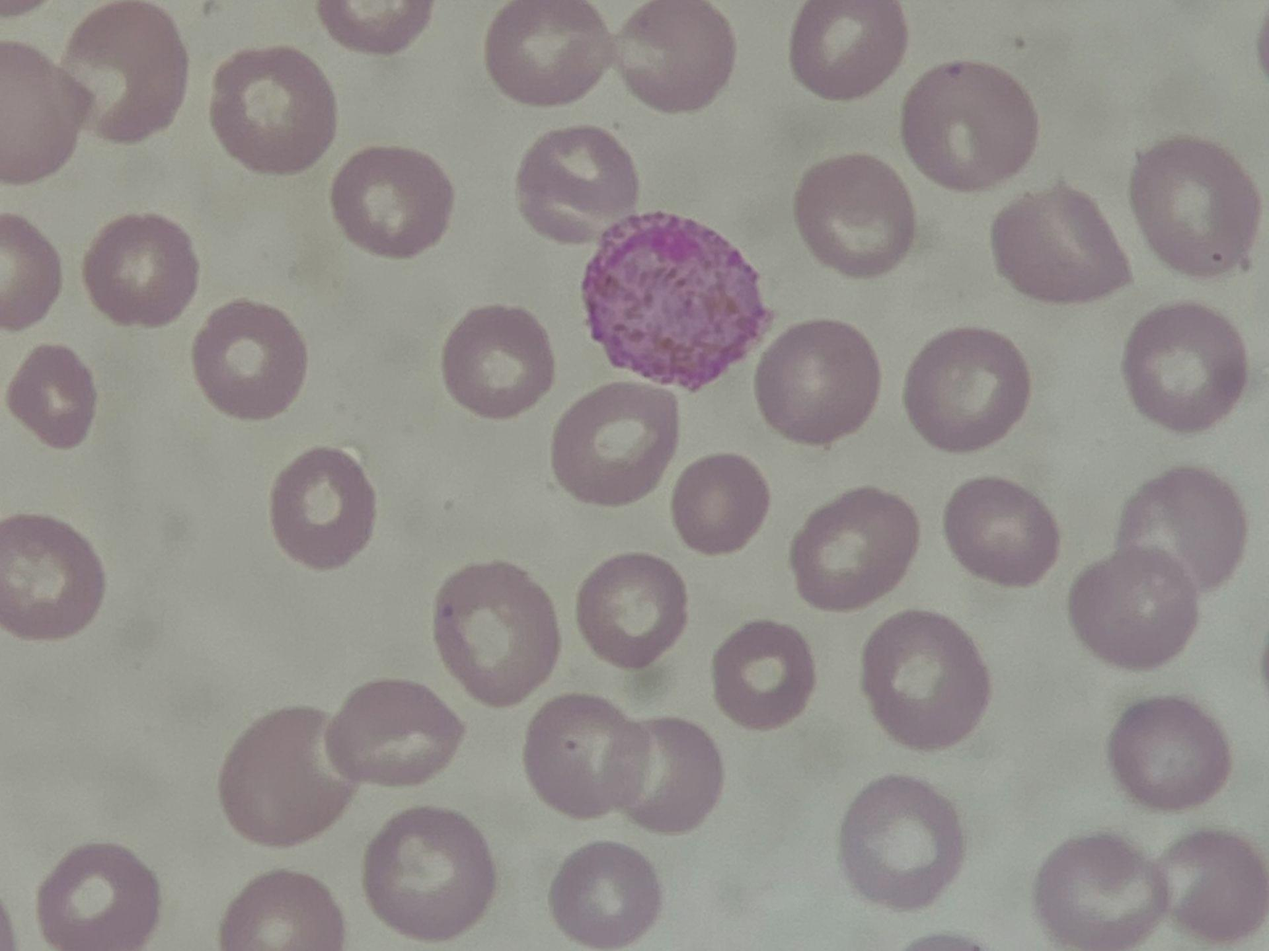Infected: (496, 560, 685, 739)
Uninfected: (913, 104, 1049, 243), (7, 672, 137, 814), (278, 200, 406, 338), (137, 647, 278, 771), (231, 759, 365, 887), (709, 246, 832, 385), (69, 280, 200, 406), (1082, 812, 1206, 945), (775, 11, 903, 138), (304, 42, 427, 172), (22, 359, 147, 486), (22, 517, 145, 646), (590, 443, 716, 568), (237, 499, 362, 623), (932, 777, 1056, 902), (351, 340, 479, 461), (388, 505, 513, 628), (617, 132, 743, 254), (102, 0, 235, 115), (354, 675, 476, 796), (805, 163, 941, 270), (631, 707, 751, 824), (816, 693, 938, 804), (961, 531, 1076, 648), (38, 142, 159, 253), (533, 839, 654, 949), (656, 845, 781, 951), (894, 382, 1003, 502), (1164, 309, 1269, 431), (581, 280, 691, 396), (210, 362, 326, 471), (1179, 767, 1268, 906), (1110, 1, 1230, 104), (1071, 625, 1182, 735), (715, 533, 826, 643), (5, 9, 118, 117), (546, 116, 648, 233), (360, 851, 478, 950), (453, 219, 559, 329), (609, 3, 717, 106), (499, 395, 597, 495), (1171, 504, 1262, 609), (925, 2, 1046, 78)
